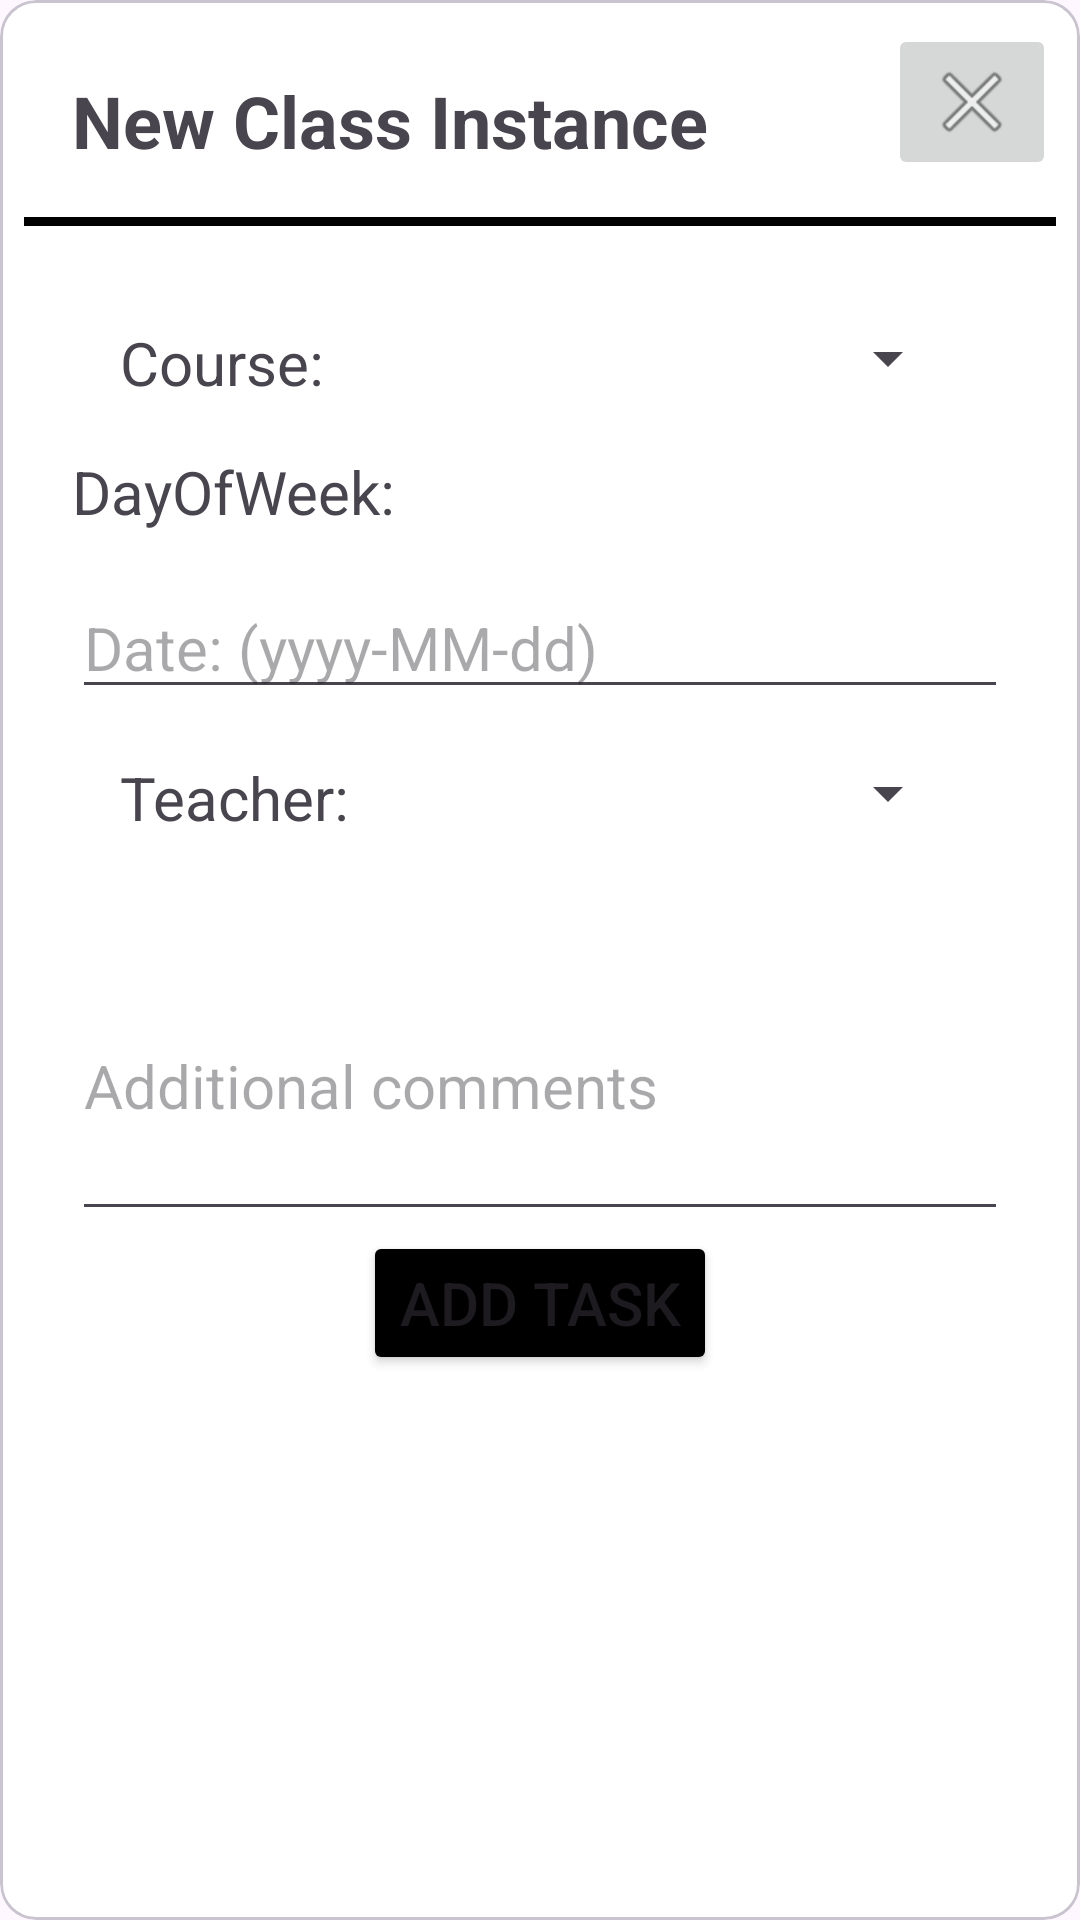

Point at icon controls on the screen. Image size 1080×1920, points as (x,y).
Delete: (972,102)
